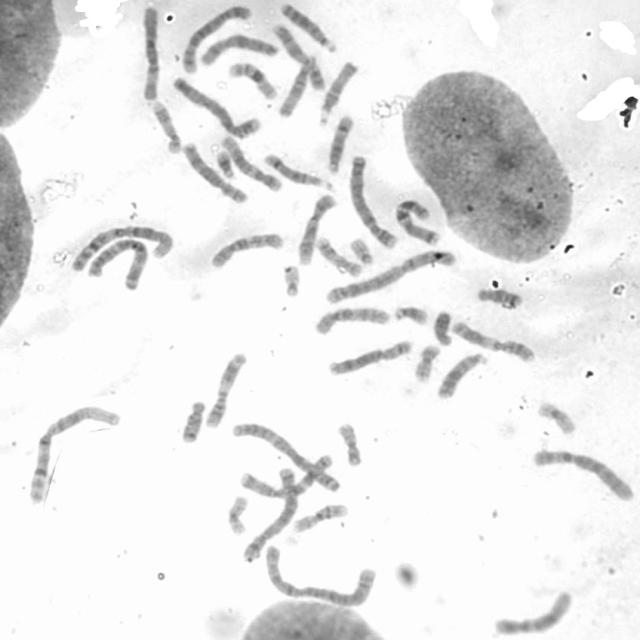A1: (23, 401, 122, 506), (70, 219, 176, 275)
A2: (322, 246, 458, 306), (262, 540, 381, 608)
A3: (227, 417, 343, 496), (76, 225, 152, 292)
B4: (168, 72, 263, 139), (346, 151, 400, 250)
B5: (238, 463, 300, 563), (178, 0, 253, 73)
C10: (207, 228, 287, 271), (311, 302, 392, 336)
C11: (448, 316, 538, 364), (201, 347, 250, 429)
C12: (488, 585, 576, 636), (217, 132, 286, 194)
C6: (529, 444, 639, 503), (138, 0, 162, 101)
C7: (236, 450, 336, 499), (392, 194, 444, 247)
C8: (179, 137, 251, 204), (324, 336, 416, 376)
C9: (270, 20, 328, 91), (294, 190, 339, 266)
D13: (277, 0, 340, 53), (434, 348, 491, 400)
D14: (260, 148, 335, 192), (323, 110, 356, 174)
D15: (315, 56, 360, 126), (274, 51, 319, 119)
E16: (223, 57, 280, 101), (290, 499, 349, 533)
E17: (311, 232, 364, 278), (148, 96, 183, 155)
E18: (177, 396, 208, 444), (473, 283, 525, 310)
F19: (533, 396, 579, 437), (223, 491, 251, 537)
F20: (334, 418, 364, 467), (411, 339, 442, 383)
G21: (389, 301, 431, 327), (212, 145, 237, 180)
G22: (346, 233, 376, 266), (278, 260, 302, 298)
X: (195, 30, 280, 67)
Y: (430, 306, 456, 347)
